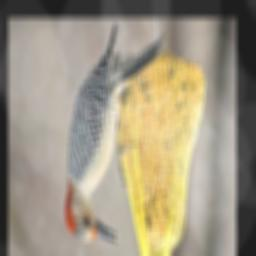Woodpecker: (50, 26, 170, 252)
